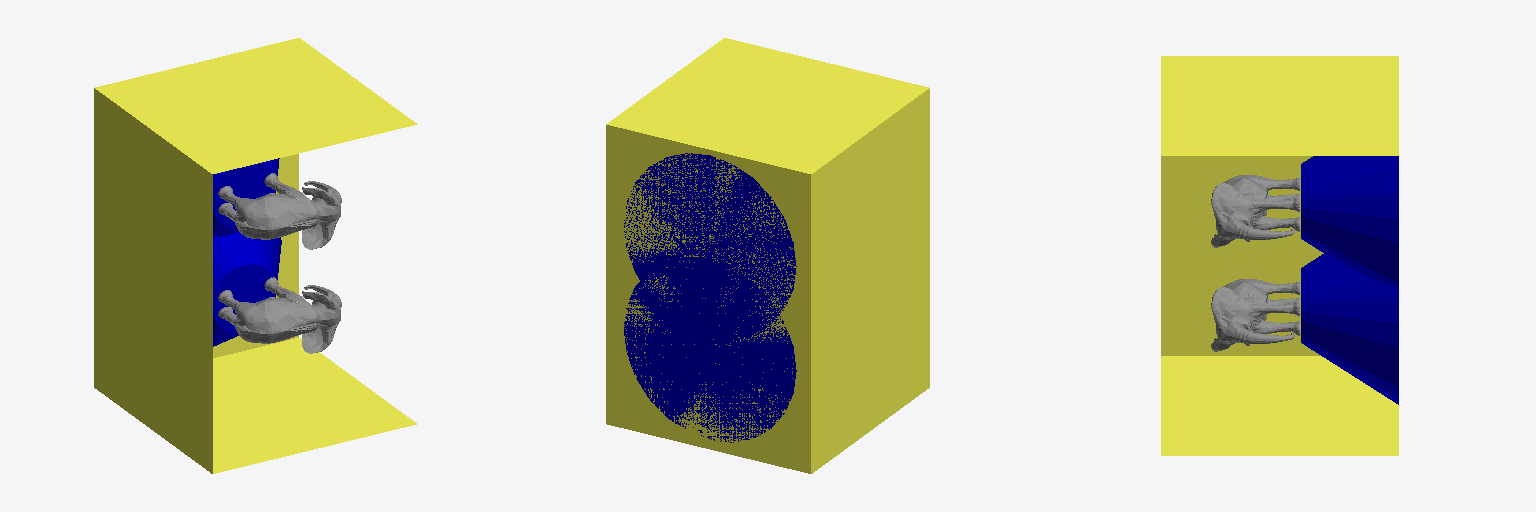
File: dosElefMediumSobreConos.obj
The picture shows the model from 3 angles: view 1: azimuth 30°, elevation 25°; view 2: azimuth 150°, elevation 25°; view 3: azimuth 270°, elevation 25°; orthographic projection.
Parts seen in each view (by area): view 1: Box01, default, default01, Cone01, Cone02; view 2: Box01, Cone01, Cone02; view 3: Box01, Cone02, Cone01, default, default01.
Boxes of the visible parts, box(x1,y1,x2,y2) form: Box01: box(94, 38, 417, 473); default: box(218, 277, 341, 353); default01: box(218, 173, 341, 249); Cone01: box(213, 232, 281, 346); Cone02: box(213, 158, 279, 236); Box01: box(606, 38, 929, 473); Cone01: box(624, 257, 796, 442); Cone02: box(624, 153, 796, 335); Box01: box(1161, 56, 1398, 455); Cone02: box(1301, 156, 1398, 287); Cone01: box(1301, 254, 1398, 404); default: box(1211, 279, 1299, 351); default01: box(1211, 175, 1299, 247).
Size of the model in its own units: 38 by 53 by 38.